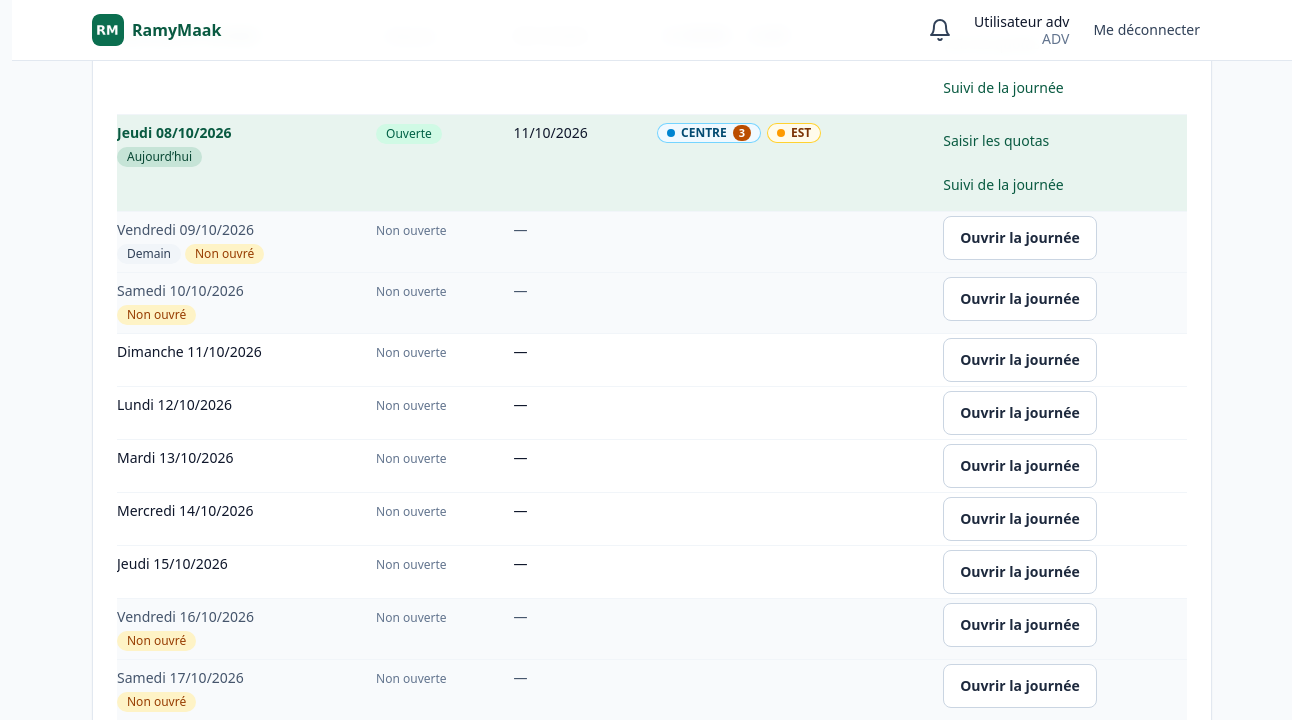
Test case: ADV — calendar of business days (EF-ADV-01) › opens a working day directly and shows its quota matrix
(page scrolled)
Click the button with aria-label "Ouvrir la journée du dimanche 11/10/2026". click: (1020, 360)
box: top-left (943, 338), bottom-right (1097, 382)
(page scrolled)
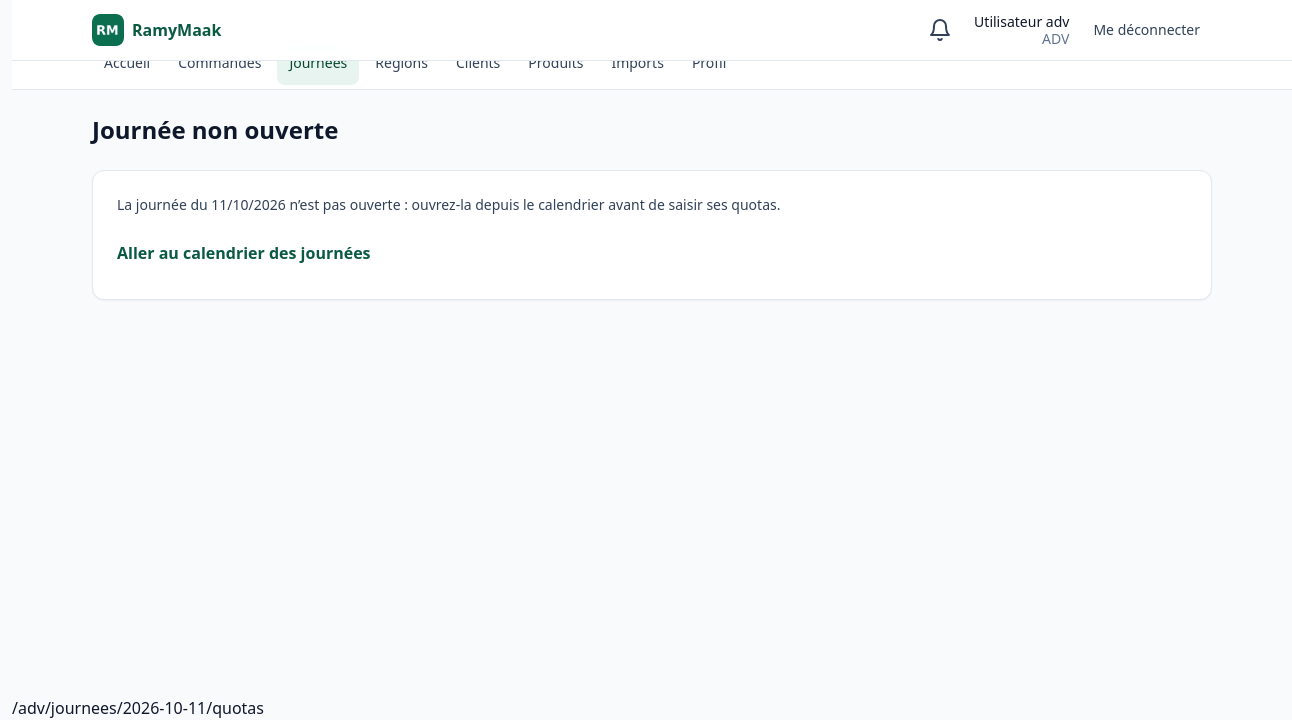
Expected: the text with test id "location" reads "/adv/journees/2026-10-11/quotas", top-left (12, 697), bottom-right (264, 719)
